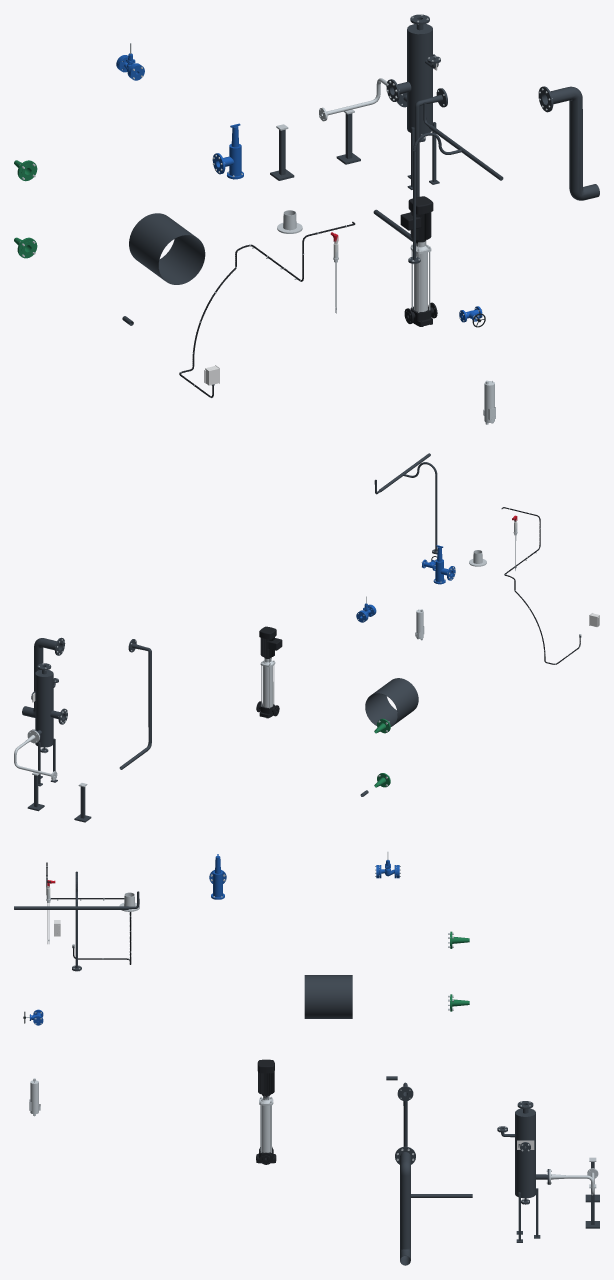
The model's file is s4000-5-BeM-8TGz.glb.
3 renders of one model, top to bottom at view 1: azimuth 30°, elevation 25°; view 2: azimuth 150°, elevation 25°; view 3: azimuth 270°, elevation 25°, orthographic. The views are drawn at different scales.
Parts seen in each view (by area): view 1: flue_spacer / dark, separator_fv8 / dark, bdv_water_drain / dark, pressure_header / dark, pump_2 CAD solid 15, trap_support / dark, bottom_to_bdv / dark, safety_2 / blue, wiring_lcs600 / black, pump_2 CAD solid 2, eco_inlet_adapter / green; view 2: separator_fv8 / dark, flue_spacer / dark, bdv_water_drain / dark, bottom_to_bdv / dark, pressure_header / dark, pump_2 CAD solid 15, trap_support / dark; view 3: separator_fv8 / dark, flue_spacer / dark, bdv_water_drain / dark, pressure_header / dark, bottom_to_bdv / dark, pump_2 CAD solid 15.
Part boxes in pixels (x1,y1,x2,y2): flue_spacer / dark: (129, 213, 205, 284); separator_fv8 / dark: (386, 14, 440, 189); bdv_water_drain / dark: (538, 86, 599, 200); pressure_header / dark: (408, 102, 503, 263); pump_2 CAD solid 15: (400, 196, 433, 241); trap_support / dark: (270, 113, 360, 180); bottom_to_bdv / dark: (373, 88, 447, 241); safety_2 / blue: (212, 123, 243, 179); wiring_lcs600 / black: (179, 221, 355, 397); pump_2 CAD solid 2: (414, 252, 427, 311); eco_inlet_adapter / green: (14, 160, 37, 258); separator_fv8 / dark: (31, 663, 67, 786); flue_spacer / dark: (365, 678, 418, 726); bdv_water_drain / dark: (22, 637, 65, 717); bottom_to_bdv / dark: (119, 639, 151, 769); pressure_header / dark: (374, 453, 437, 554); pump_2 CAD solid 15: (259, 626, 282, 658); trap_support / dark: (27, 775, 91, 822); separator_fv8 / dark: (497, 1101, 549, 1242); flue_spacer / dark: (304, 975, 352, 1018); bdv_water_drain / dark: (395, 1146, 415, 1265); pressure_header / dark: (14, 871, 139, 971); bottom_to_bdv / dark: (397, 1082, 472, 1197); pump_2 CAD solid 15: (257, 1059, 274, 1095).
Bounding box in the file's own units: 5.91 × 2.96 × 6.1.
